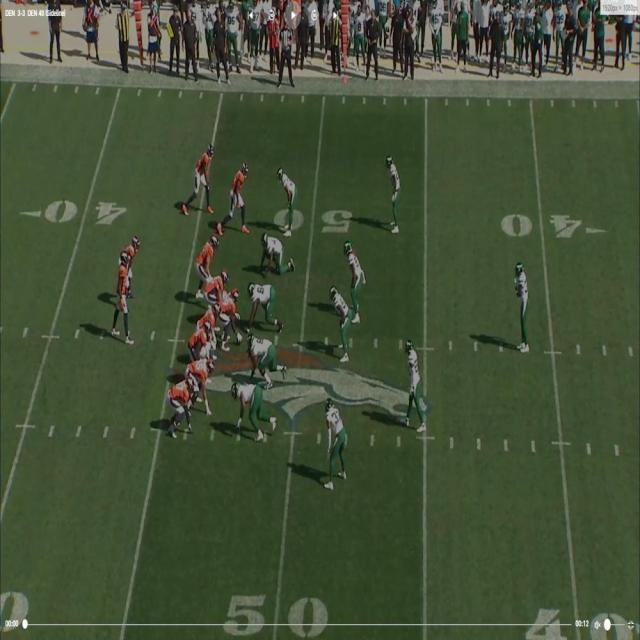center: (220, 287, 240, 343)
db: (324, 398, 350, 488), (514, 264, 531, 348), (280, 169, 298, 237), (386, 157, 401, 235)
lb: (345, 238, 364, 324), (332, 288, 352, 358), (407, 346, 419, 418)
qb: (116, 251, 130, 342)
skill: (167, 376, 196, 438), (190, 359, 214, 415), (193, 145, 216, 201), (228, 160, 248, 220), (123, 237, 140, 276)
